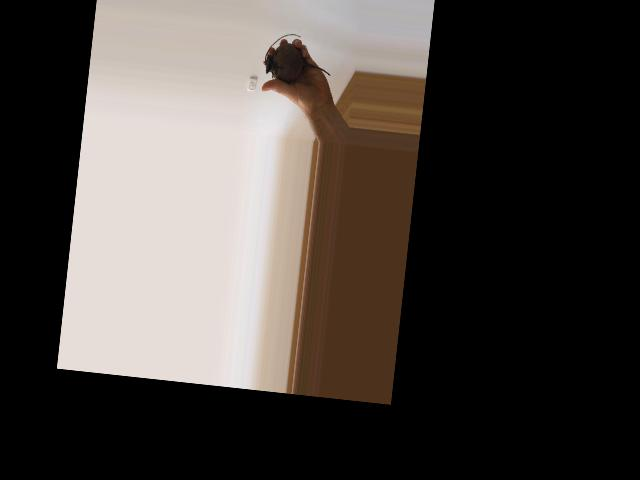beet: (262, 30, 334, 85)
